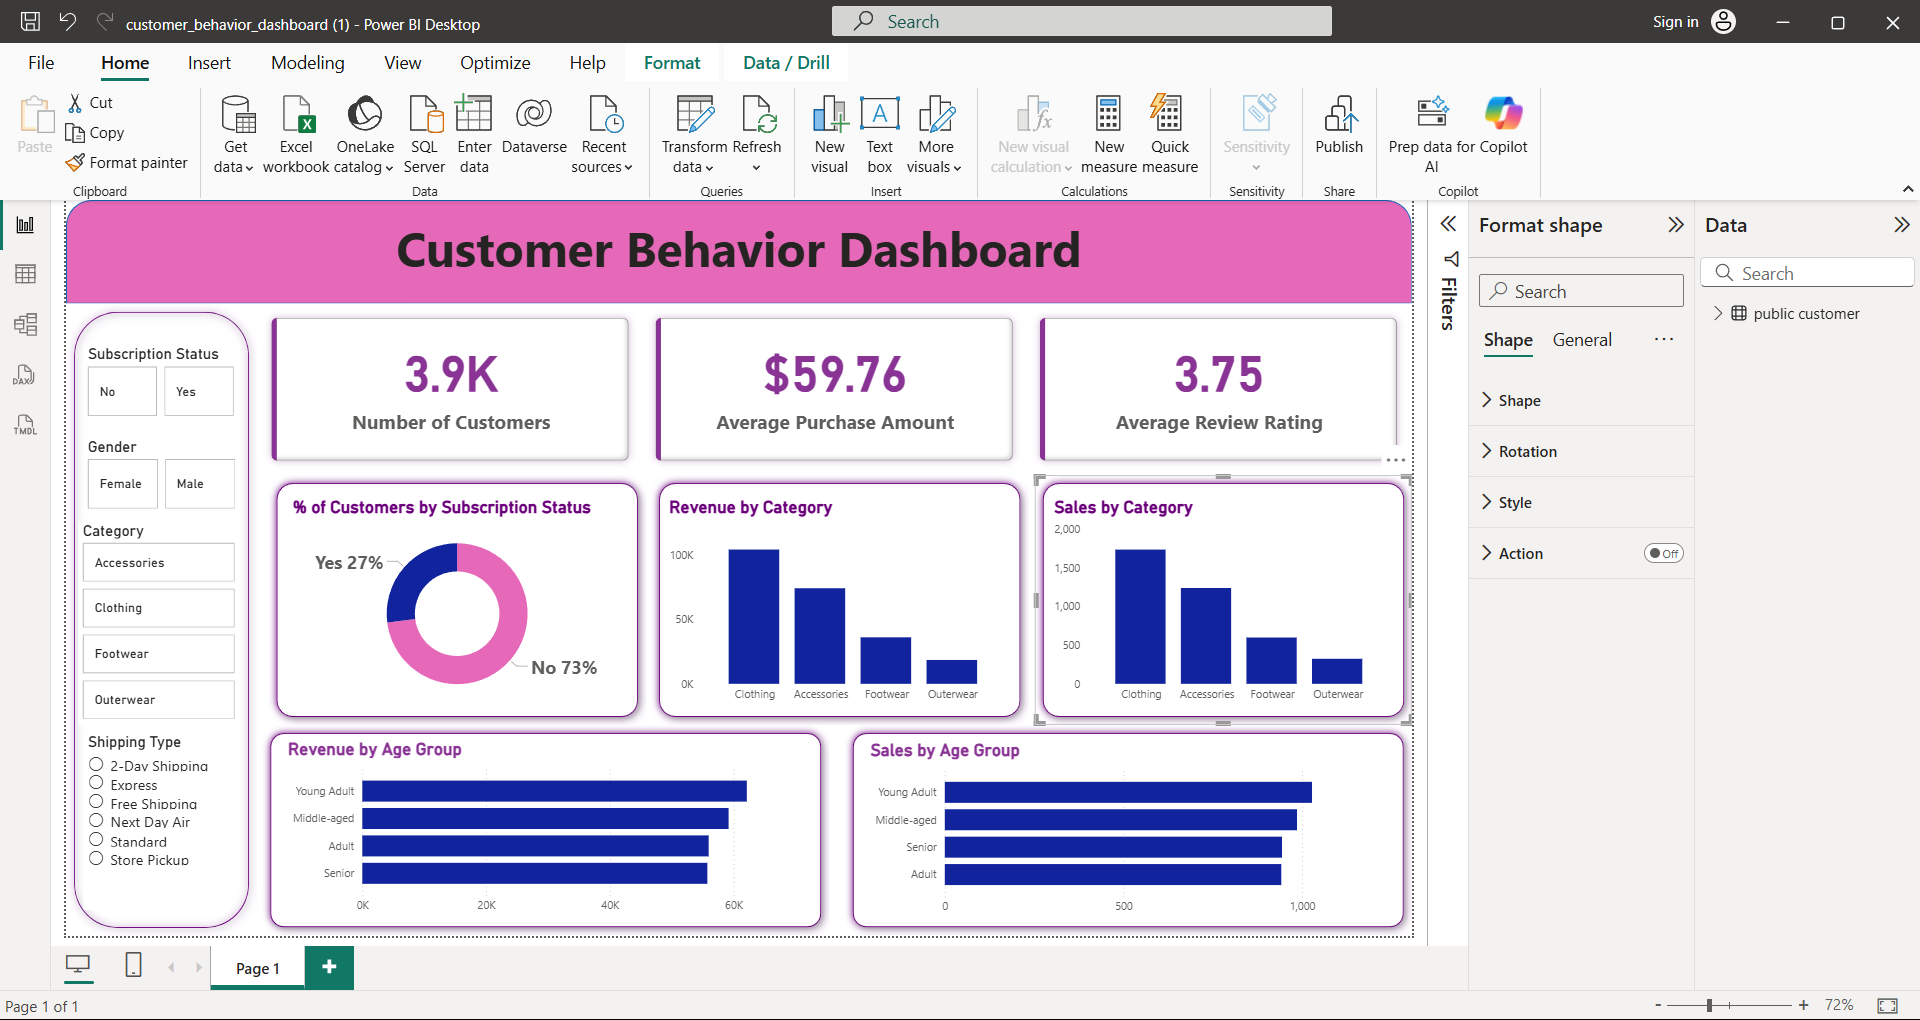

This screenshot's page, from the dashboard's own definition file:
{"tool":"powerbi","page":{"name":"Page 1","canvas":[1500,820],"ordinal":0},"visuals":[{"type":"cardVisual","fields":{"Data":["public customer.Number of Customers","public customer.Average Purchase Amount","public customer.Average Review Rating"]},"box":[212.9,115.3,1286.5,191.6],"z":2000},{"type":"shape","box":[218.3,585.6,631.7,234.2],"z":2500,"group":"g1"},{"type":"shape","box":[0,0,1499.4,115.3],"z":3000},{"type":"textbox","box":[0,12.4,1499.4,102.9],"z":4000},{"type":"shape","box":[225.4,307,420.5,278.6],"z":5000},{"type":"donutChart","title":"% of Customers by Subscription Status","fields":{"Category":["public customer.subscription_status"],"Y":["CountNonNull(public customer.customer_id)"]},"box":[248.4,331.8,376.2,237.8],"z":6000},{"type":"shape","box":[1078.9,307,420.5,278.6],"z":7000},{"type":"shape","box":[652.1,307,420.5,278.6],"z":8000},{"type":"clusteredColumnChart","title":"Revenue by Category","fields":{"Y":["Sum(public customer.purchase_amount)"],"Category":["public customer.category"]},"box":[667.2,331.8,385.1,237.8],"z":9000},{"type":"clusteredColumnChart","title":"Sales by Category","fields":{"Y":["CountNonNull(public customer.customer_id)"],"Category":["public customer.category"]},"box":[1096.6,331.8,385.1,237.8],"z":10000},{"type":"shape","box":[0,115.3,212.9,704.5],"z":11000},{"type":"advancedSlicerVisual","fields":{"Values":["public customer.subscription_status"]},"box":[19.5,161.5,173.9,85.2],"z":12000},{"type":"advancedSlicerVisual","fields":{"Values":["public customer.gender"]},"box":[19.5,264.6,174.1,85],"z":13000},{"type":"advancedSlicerVisual","fields":{"Values":["public customer.category"]},"box":[13.9,357.9,179.7,227],"z":14000},{"type":"listSlicer","fields":{"Values":["public customer.shipping_type"]},"box":[19.5,593.3,162.9,197.8],"z":15000},{"type":"shape","box":[867.7,585.6,631.7,234.2],"z":16000},{"type":"clusteredBarChart","title":"Sales by Age Group","fields":{"Y":["CountNonNull(public customer.customer_id)"],"Category":["public customer.age_group"]},"box":[890.8,601.5,585.6,204.1],"z":17000},{"type":"clusteredBarChart","title":"Revenue by Age Group","fields":{"Y":["Sum(public customer.purchase_amount)"],"Category":["public customer.age_group"]},"box":[241.4,601.6,585.6,204.1],"z":17500,"group":"g1"},{"type":"group","id":"g1","title":"Group 1","box":[218.3,585.6,631.7,234.2],"z":17501}]}

Visuals, with their boxes on the page's 1500x820 design canvas (x1, y1, x2, y2). These are canvas units, not pixel positions in the 1920x1020 screenshot, which may show the page scaled, cropped or inside an application window:
cardVisual - public customer.Number of Customers x public customer.Average Purchase Amount: bbox(213, 115, 1499, 307)
shape: bbox(218, 586, 850, 820)
shape: bbox(0, 0, 1499, 115)
textbox: bbox(0, 12, 1499, 115)
shape: bbox(225, 307, 646, 586)
"% of Customers by Subscription Status" donutChart: bbox(248, 332, 625, 570)
shape: bbox(1079, 307, 1499, 586)
shape: bbox(652, 307, 1073, 586)
"Revenue by Category" clusteredColumnChart: bbox(667, 332, 1052, 570)
"Sales by Category" clusteredColumnChart: bbox(1097, 332, 1482, 570)
shape: bbox(0, 115, 213, 820)
advancedSlicerVisual - public customer.subscription_status: bbox(20, 162, 193, 247)
advancedSlicerVisual - public customer.gender: bbox(20, 265, 194, 350)
advancedSlicerVisual - public customer.category: bbox(14, 358, 194, 585)
listSlicer - public customer.shipping_type: bbox(20, 593, 182, 791)
shape: bbox(868, 586, 1499, 820)
"Sales by Age Group" clusteredBarChart: bbox(891, 602, 1476, 806)
"Revenue by Age Group" clusteredBarChart: bbox(241, 602, 827, 806)
"Group 1" group: bbox(218, 586, 850, 820)
